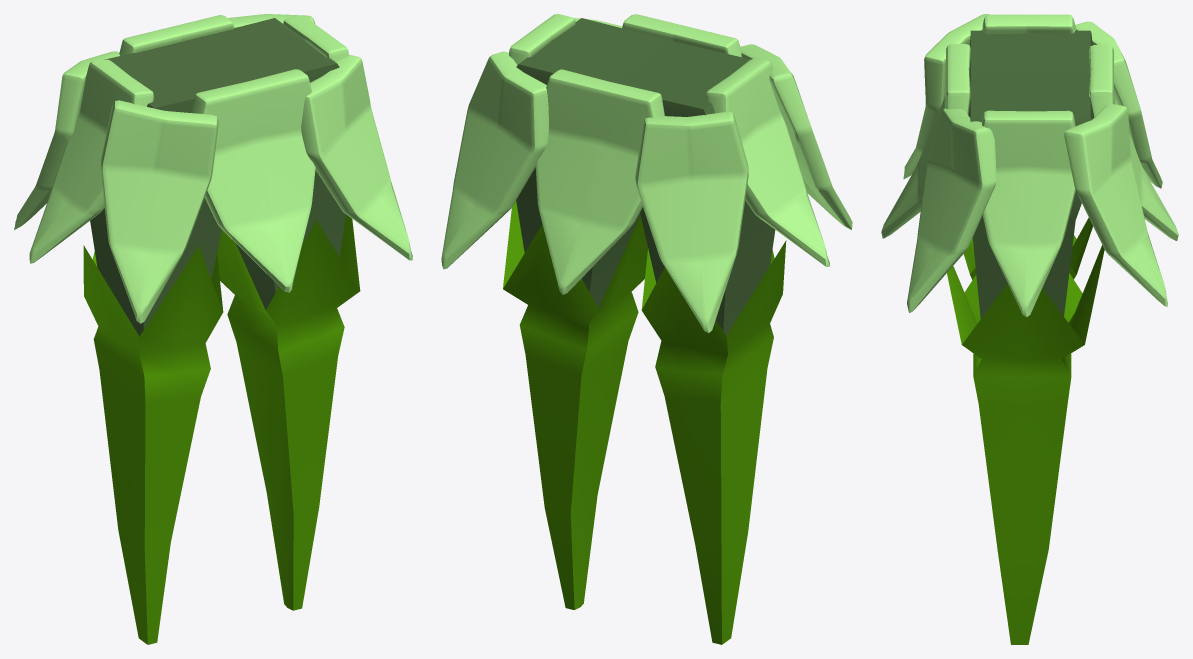
The model's file is FlowerFighter_Legs_v2_Rigged.fbx.
The picture shows the model from 3 angles, left to right: view 1: azimuth 30°, elevation 25°; view 2: azimuth 150°, elevation 25°; view 3: azimuth 270°, elevation 25°; orthographic projection. The views are drawn at different scales.
Visible parts, largest first — view 1: Legs1; view 2: Legs1; view 3: Legs1.
Part boxes in pixels (<box>): Legs1: <box>14,14,412,644</box>; Legs1: <box>441,14,852,644</box>; Legs1: <box>881,14,1178,644</box>.
Bounding box in the file's own units: 350 × 540 × 266.
